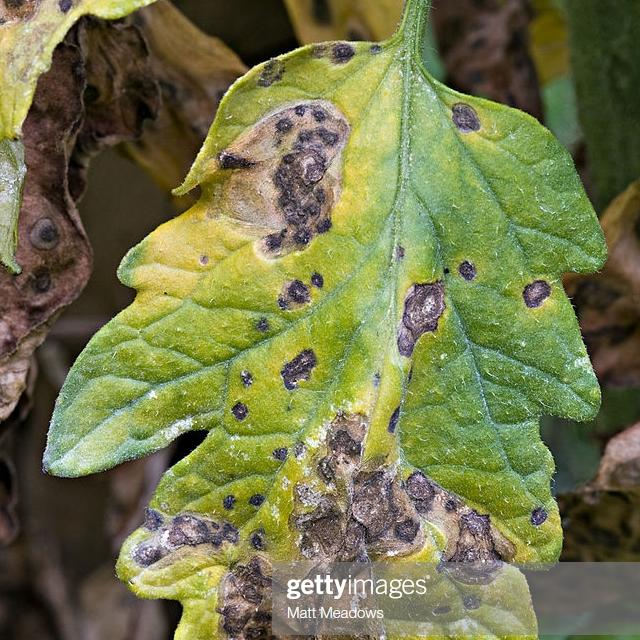Tomato Septoria leaf spot: (11, 22, 606, 640)
